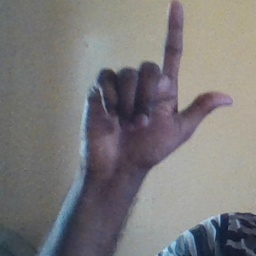L: (78, 2, 235, 169)
